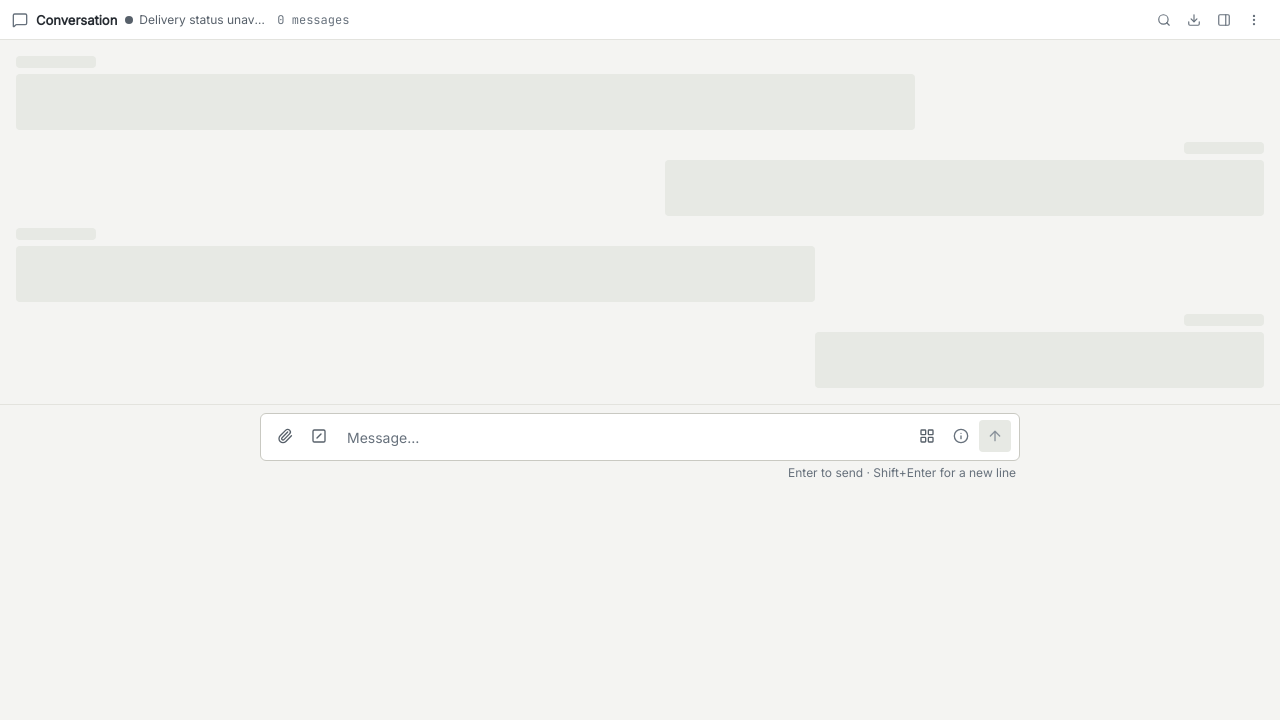
failed assistant response › carries the streamed error cause onto the failed message
The width and height of the screenshot is (1280, 720).
Click the text box with test id "composer-input": (623, 438) 341,422 -> 905,454
(page scrolled)
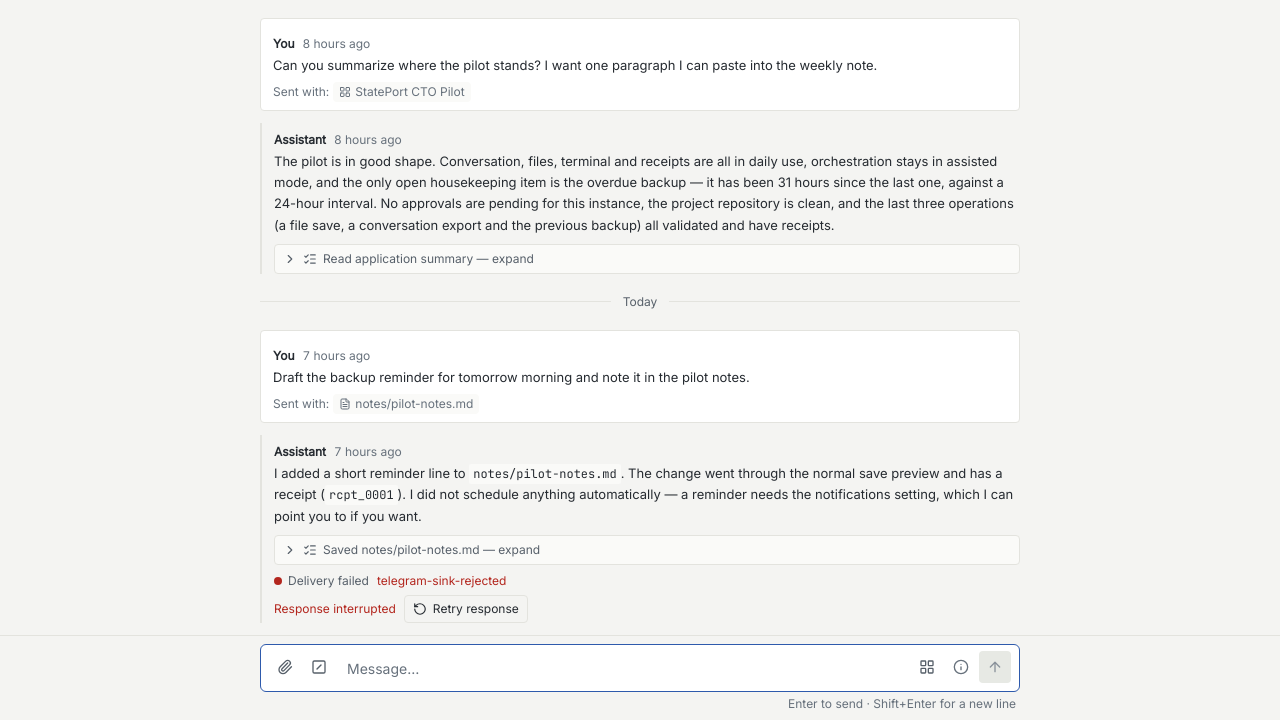
In the text box with test id "composer-input": (623, 669) 341,653 -> 905,685, type "please answer with a reply that is long enough to fail midway through"
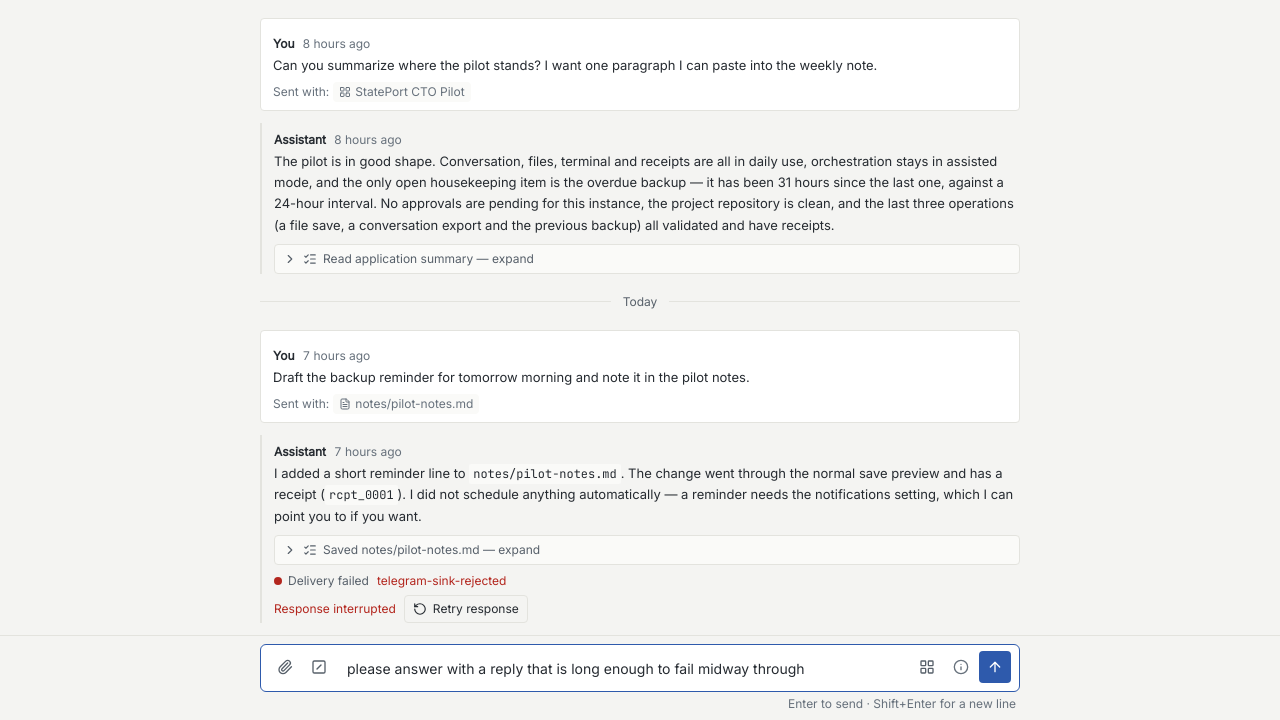
Press Enter
(page scrolled)
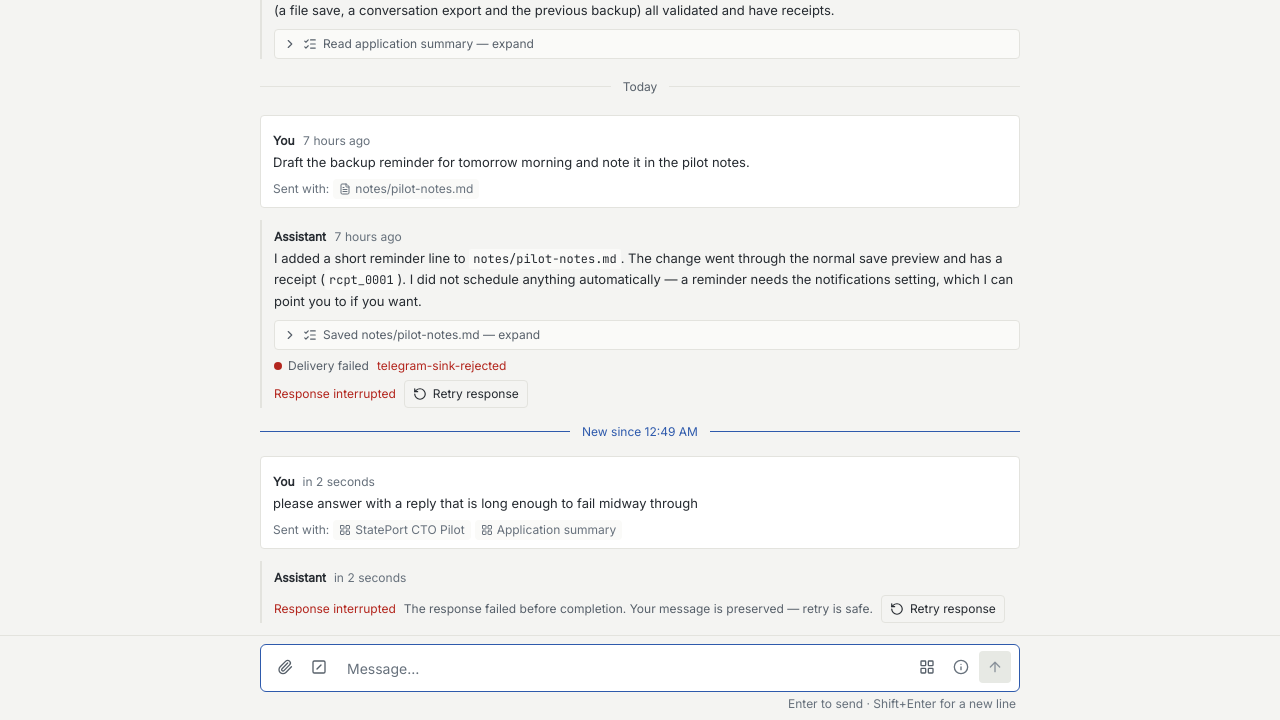
Check: the text with test id "failure-reason-" shows "The response failed before completion", box 404,601 -> 873,616
